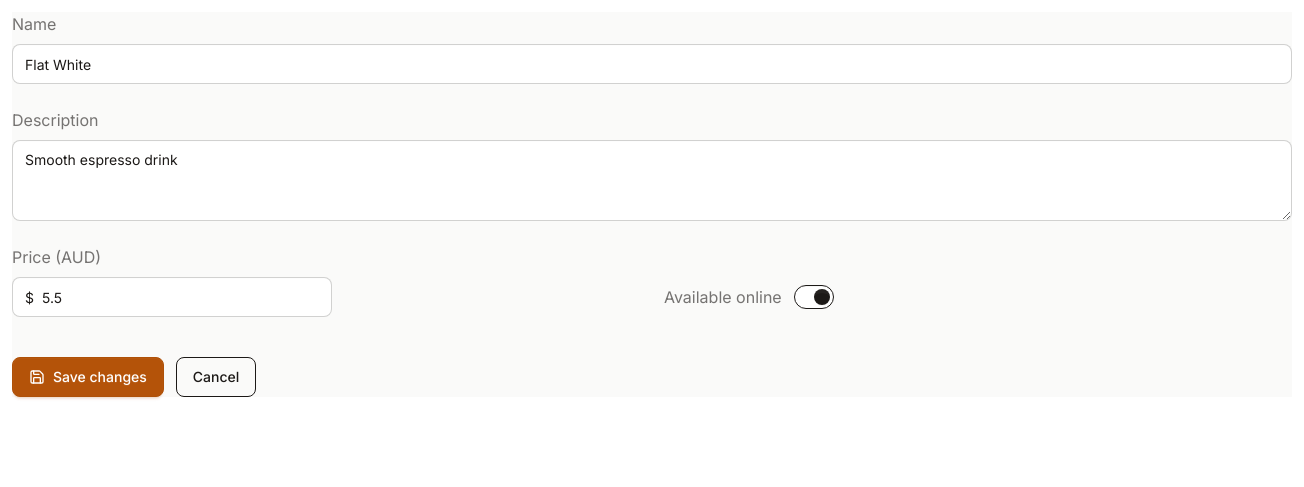
Test: MenuItemEditor › shows error message on failed PATCH
Replace the text in the field showing "Flat White" with "Latte": point(652, 64) [12,44,1292,84]
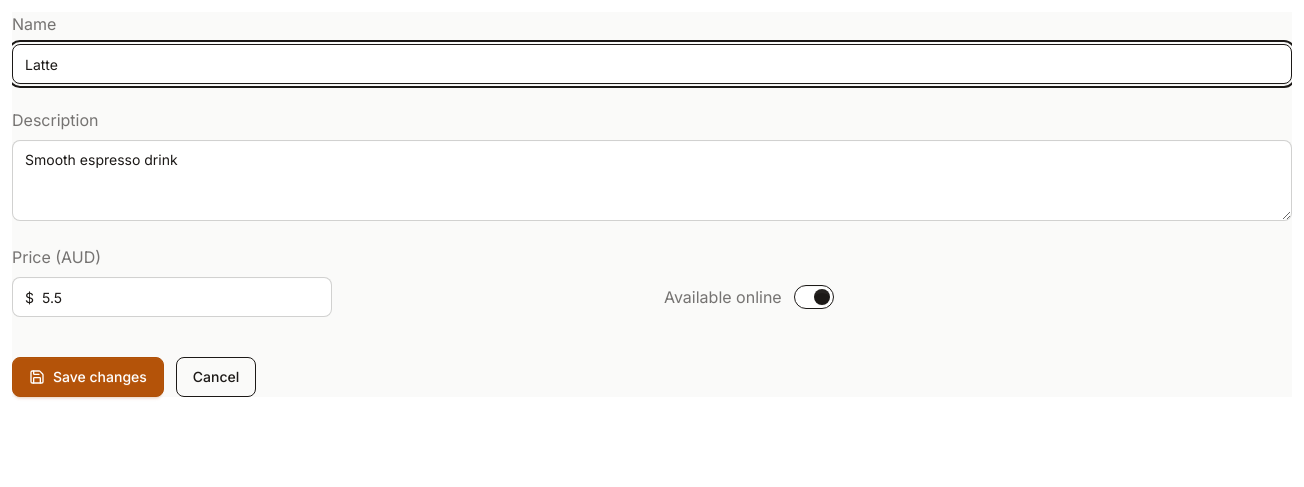
Click the button "Save changes": point(88, 377) [12,357,164,397]
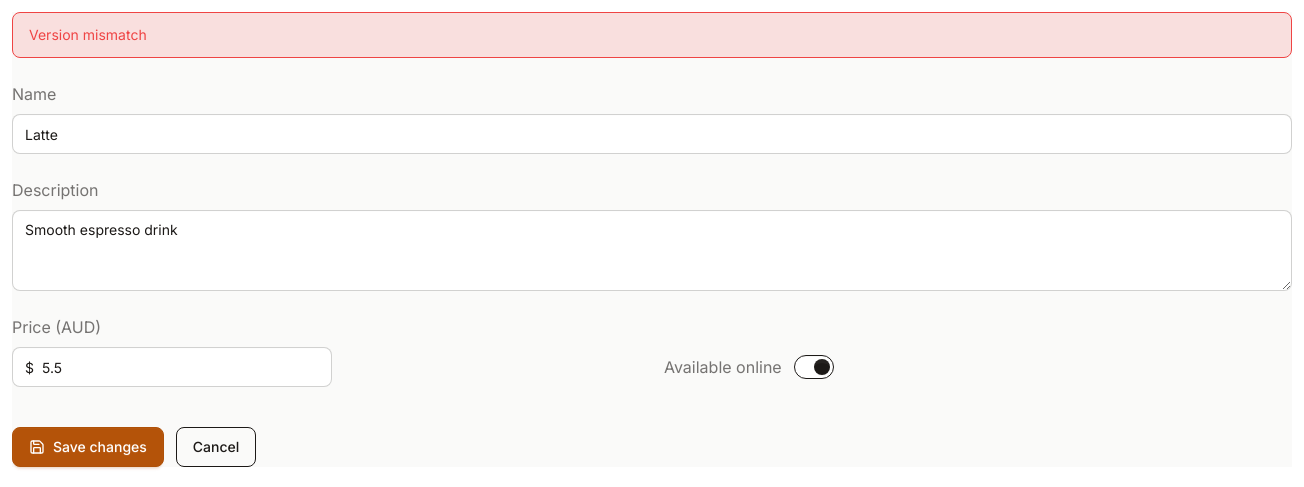
Check: the text "Version mismatch" is shown, box [12,12,1292,58]
